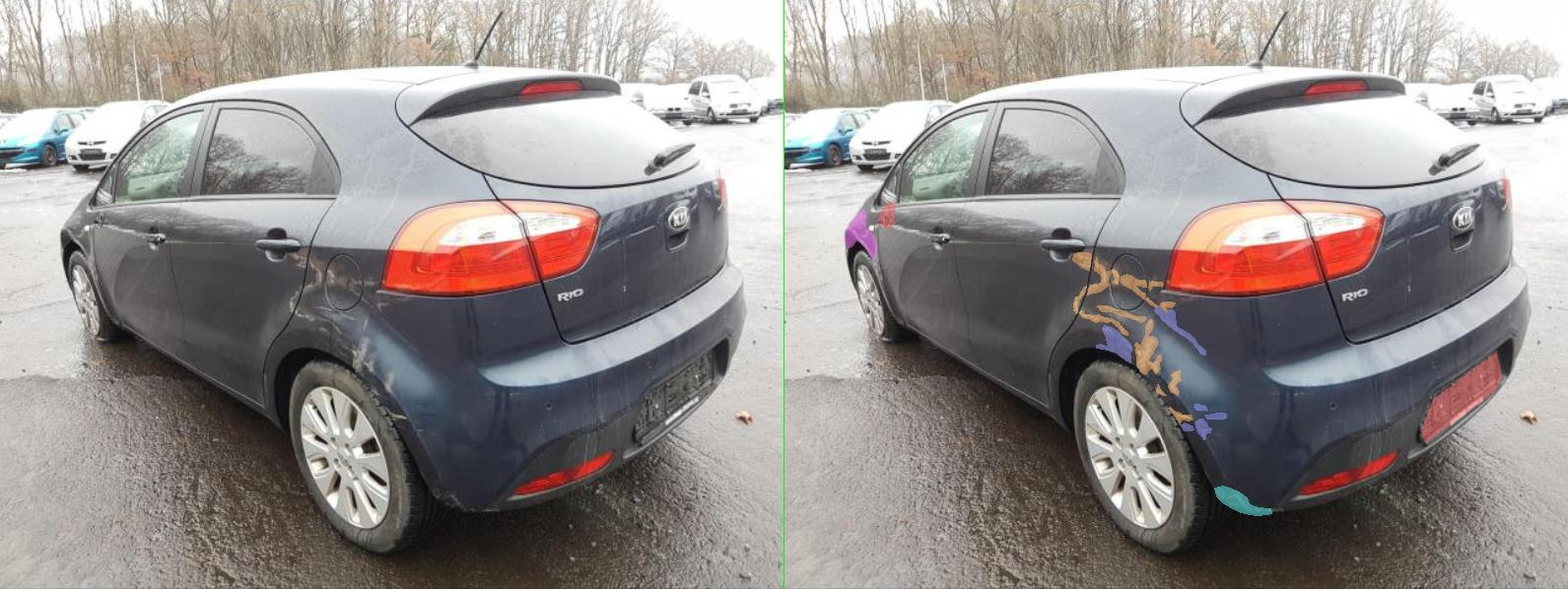Dent: (120, 210, 183, 258)
Flaking: (860, 486, 974, 515)
Missing part: (1274, 352, 1434, 442), (185, 203, 221, 229)
Paint chip: (700, 319, 753, 374), (590, 310, 686, 335), (606, 256, 657, 294), (623, 305, 724, 322), (673, 274, 724, 299), (767, 407, 817, 425), (576, 252, 613, 271), (578, 286, 604, 313), (767, 370, 793, 395), (749, 301, 781, 312), (728, 281, 757, 291), (722, 297, 746, 306), (655, 269, 669, 284), (744, 384, 763, 395)
Scratch: (740, 305, 842, 355), (623, 325, 694, 362), (820, 419, 854, 439), (840, 413, 884, 419), (793, 423, 819, 430), (819, 404, 846, 410)
